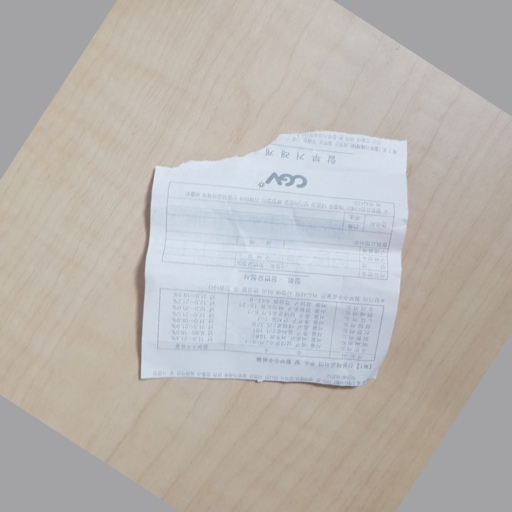Paper_2: (133, 124, 419, 408)
